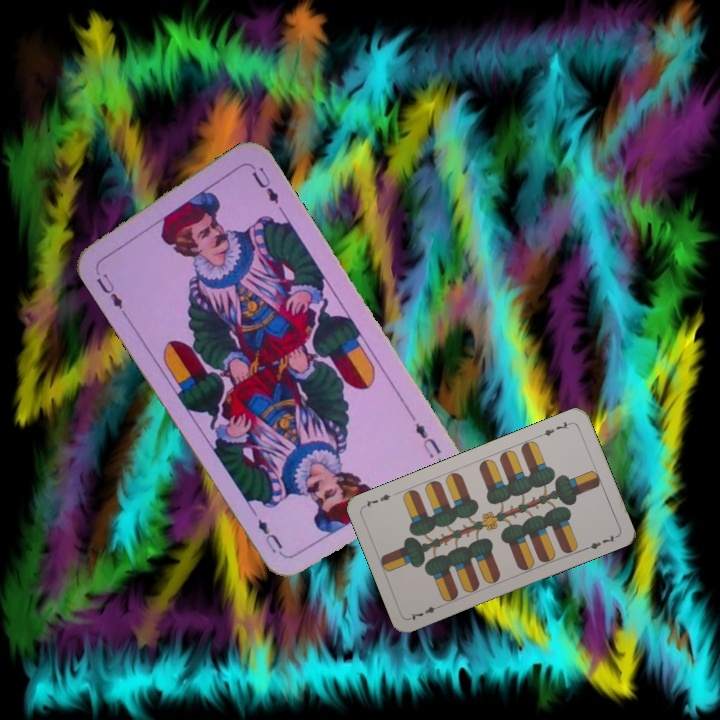E7: (406, 601, 445, 623), (535, 418, 574, 439)
EU: (91, 263, 128, 316), (411, 418, 444, 462)
